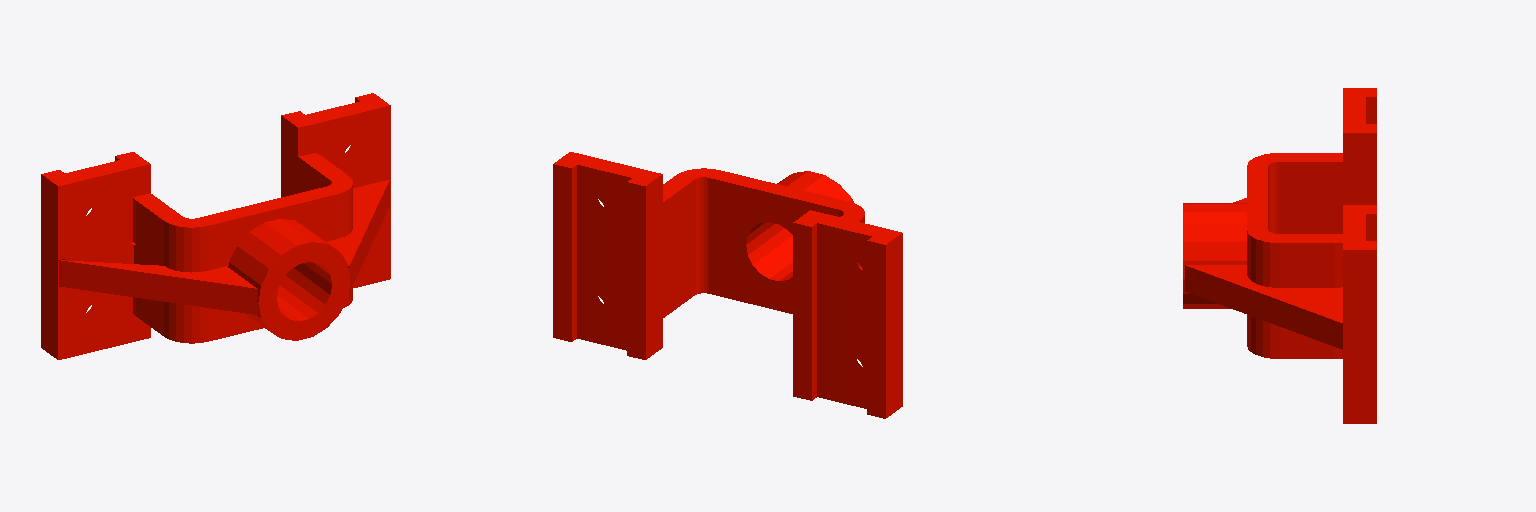
3 renders of one model, left to right at view 1: azimuth 30°, elevation 25°; view 2: azimuth 150°, elevation 25°; view 3: azimuth 270°, elevation 25°, orthographic.
Parts seen in each view (by area): view 1: Loft01; view 2: Loft01; view 3: Loft01.
Part boxes in pixels (x1,y1,x2,y2): Loft01: (41,93,390,359); Loft01: (553,152,902,418); Loft01: (1183,88,1376,423).
Bounding box in the file's own units: 180 × 90 × 91.